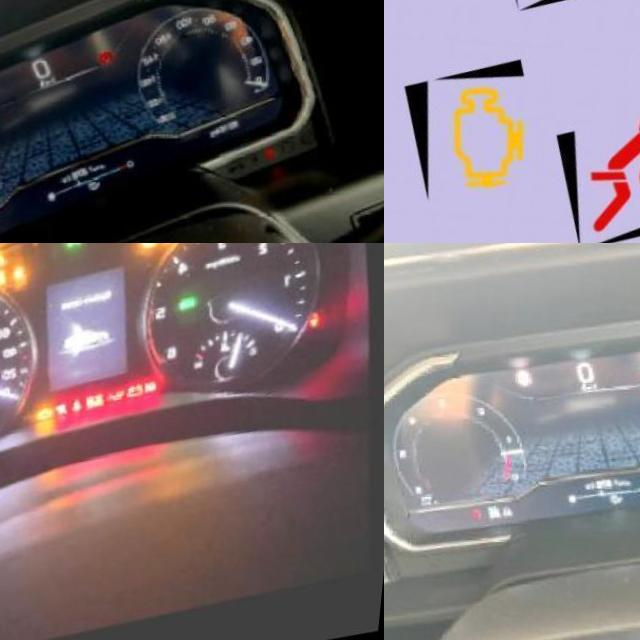Low fuel level: (96, 179, 109, 191), (609, 491, 621, 503)
